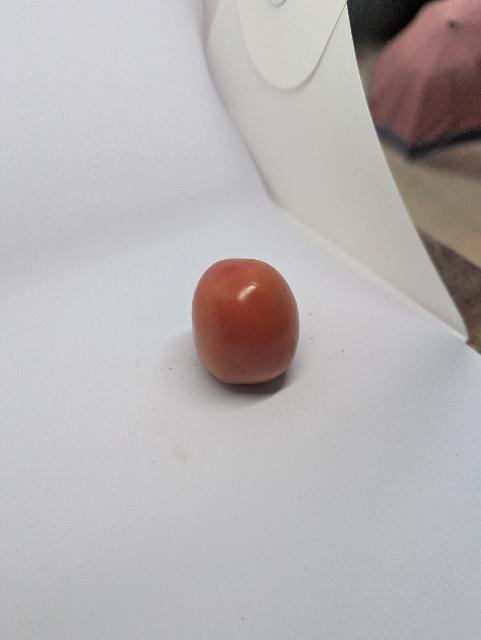red: (182, 247, 316, 396)
